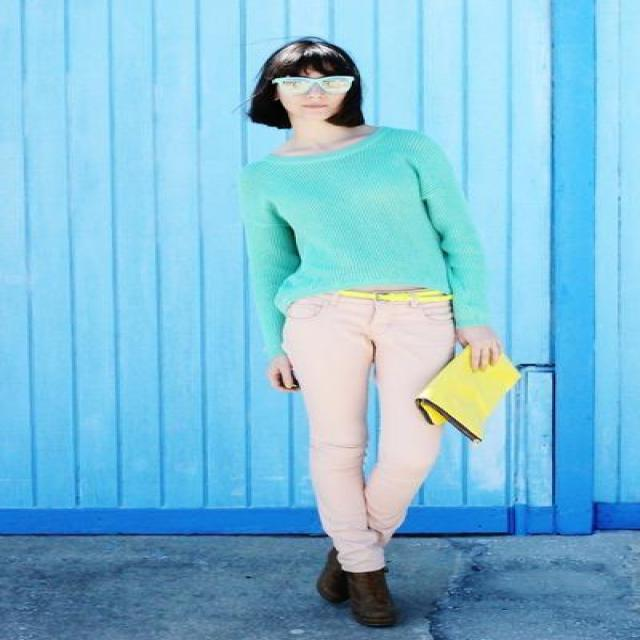bag: (416, 350, 517, 440)
jacket: (226, 127, 514, 362)
pants: (282, 290, 451, 572)
shoe: (317, 552, 398, 626)
